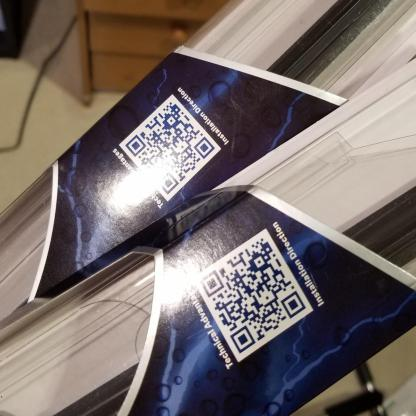qr: (196, 233, 309, 358), (124, 97, 218, 202)
